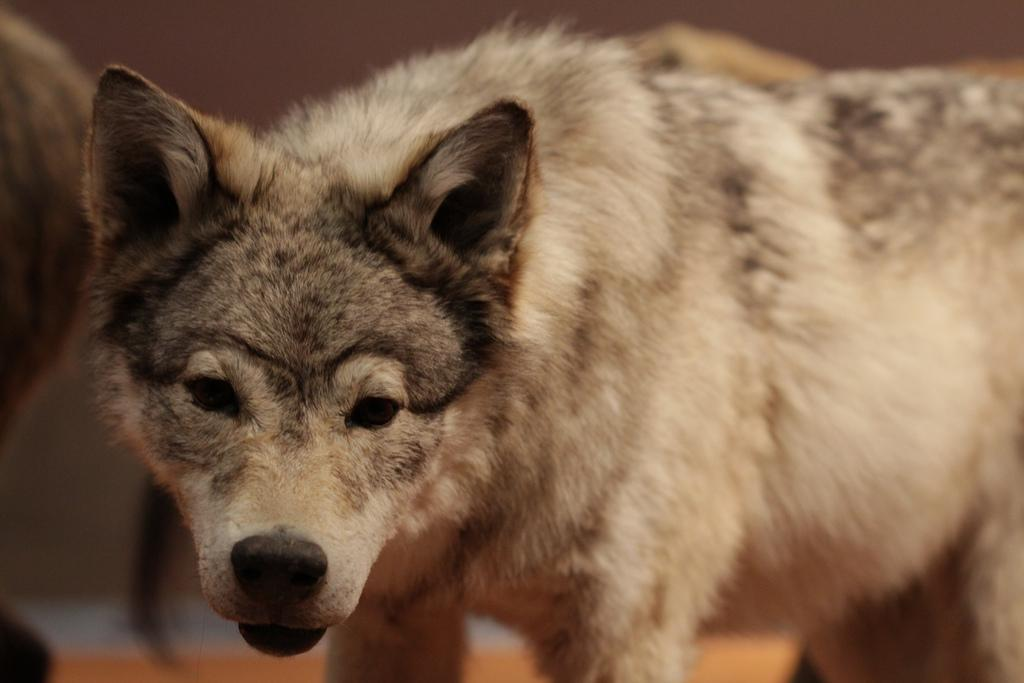Wolf: (89, 13, 1024, 683), (0, 0, 113, 682)
